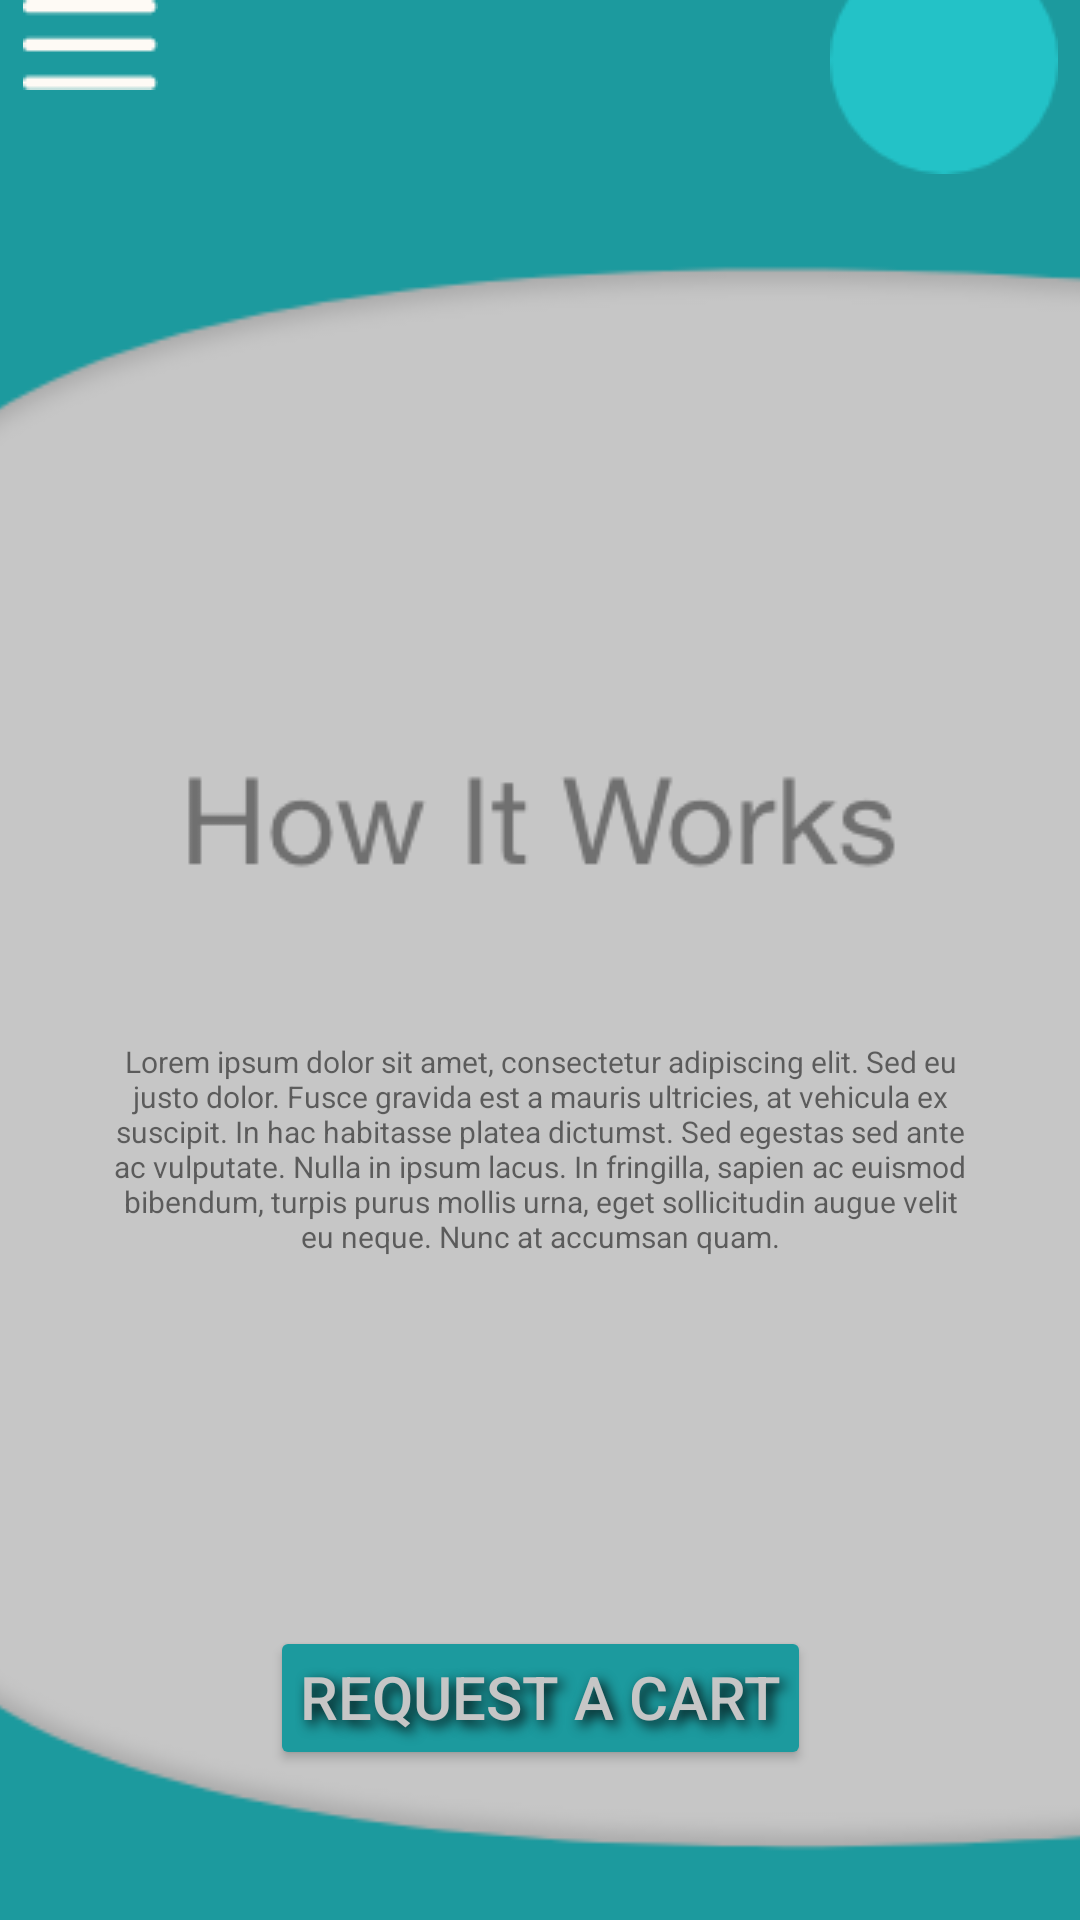

Screen size 1080w x 1920h. Icon name, then its box in pixels as box=[x1, y1, x2, y2]:
menu: box=[23, 0, 158, 90]
